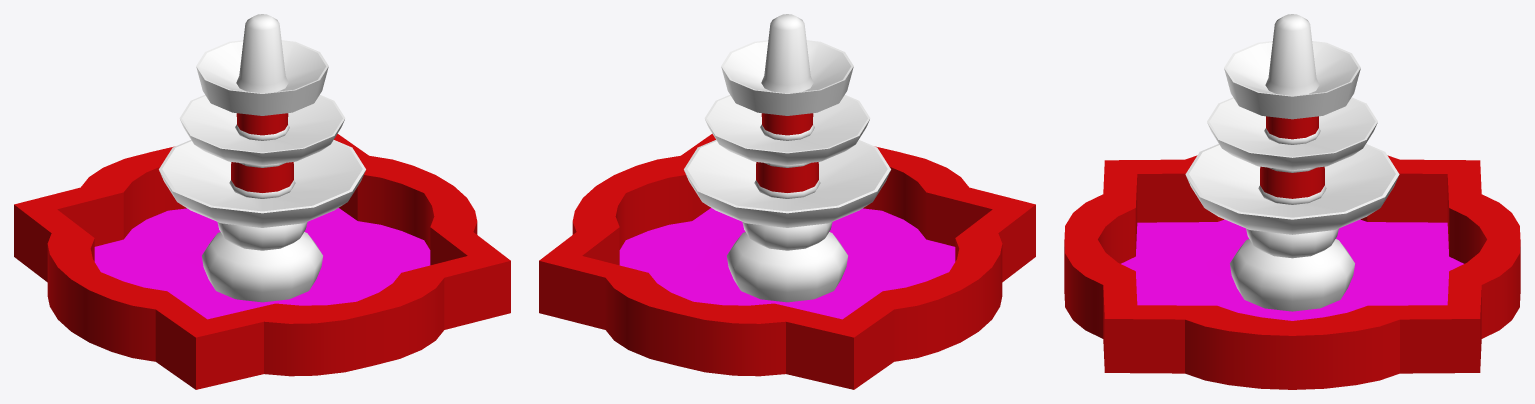
Rendered from Fountain.fbx.
3 views of the same model, side by side, from view 1: azimuth 30°, elevation 25°; view 2: azimuth 150°, elevation 25°; view 3: azimuth 270°, elevation 25° (orthographic). The views are drawn at different scales.
Visible parts, largest first — view 1: Fountain.001, Fountain, Fountain.002; view 2: Fountain.001, Fountain, Fountain.002; view 3: Fountain.001, Fountain, Fountain.002.
Boxes of the visible parts, x1,y1,x2,y2 form: Fountain.001: (14, 113, 510, 389); Fountain: (159, 14, 365, 302); Fountain.002: (94, 208, 430, 319); Fountain.001: (539, 113, 1035, 389); Fountain: (684, 14, 890, 302); Fountain.002: (619, 208, 955, 319); Fountain.001: (1064, 116, 1520, 389); Fountain: (1185, 14, 1399, 311); Fountain.002: (1121, 219, 1463, 320).
Size of the model in its own units: 750 by 500 by 750.
